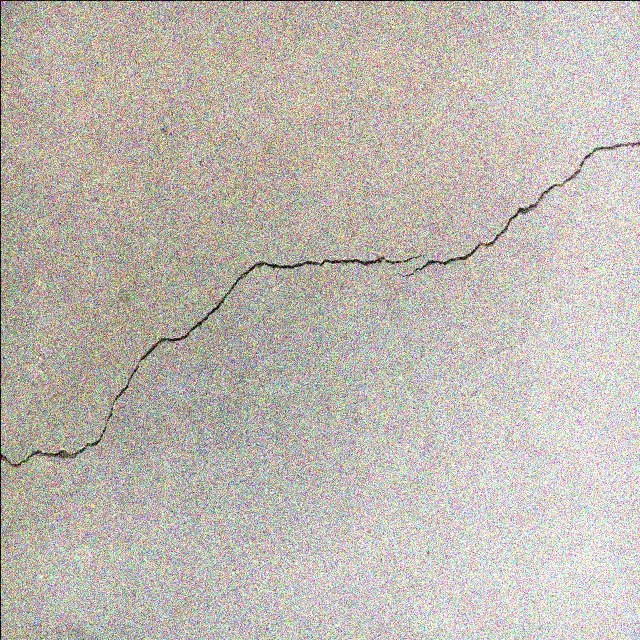SurfaceCrack: (1, 34, 640, 492)
